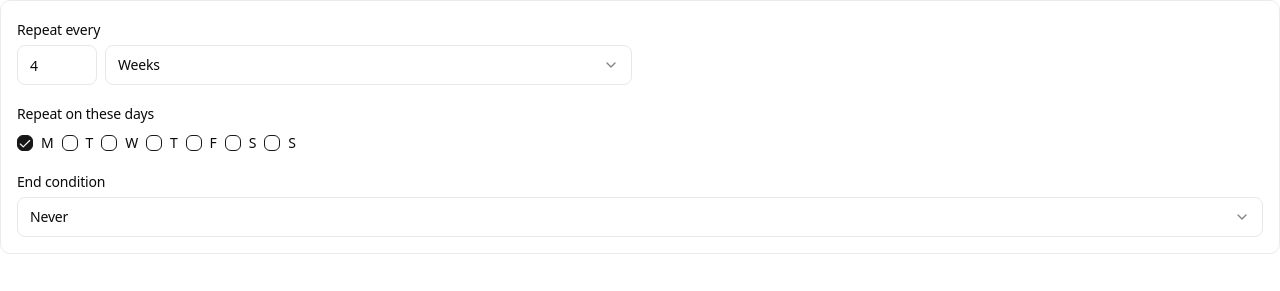
Test case: CustomRepeatingEditor (AWTD-1352) › AWTD-1352: a weekly pattern with no days says to pick one
Expected: the text "Pick at least one day" is not shown
Click the checkbox named "Monday": (25, 143) top-left (17, 135), bottom-right (33, 151)
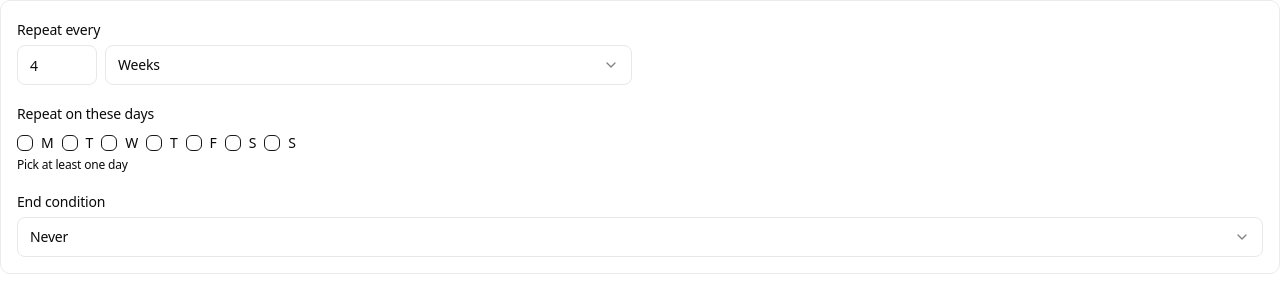
Result: the text "Pick at least one day" is shown at top-left (17, 156), bottom-right (128, 173)
